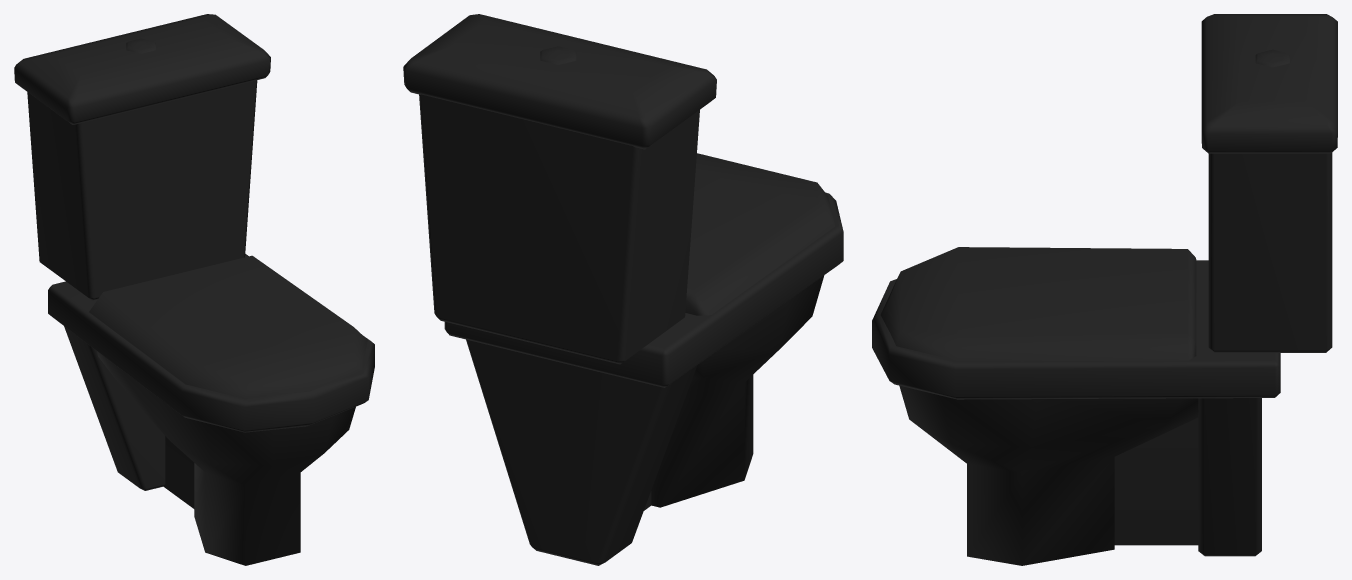
File: bathroom_016.fbx
The picture shows the model from 3 angles, left to right: view 1: azimuth 30°, elevation 25°; view 2: azimuth 150°, elevation 25°; view 3: azimuth 270°, elevation 25°; orthographic projection. The views are drawn at different scales.
Visible parts, largest first — view 1: bathroom_016; view 2: bathroom_016; view 3: bathroom_016.
Part boxes in pixels (box(x1,y1,x2,y2)): bathroom_016: box(14, 14, 374, 565); bathroom_016: box(403, 14, 843, 565); bathroom_016: box(872, 14, 1337, 565).
Size of the model in its own units: 58.41 by 99.8 by 116.
